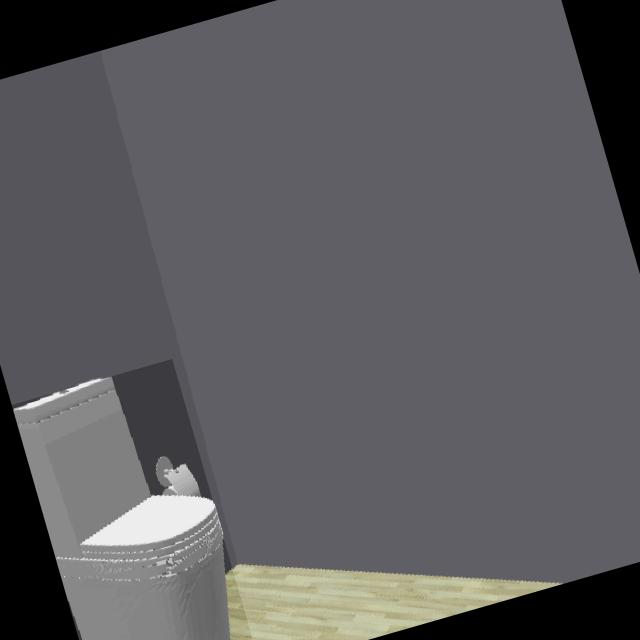toilet: (14, 377, 229, 640)
